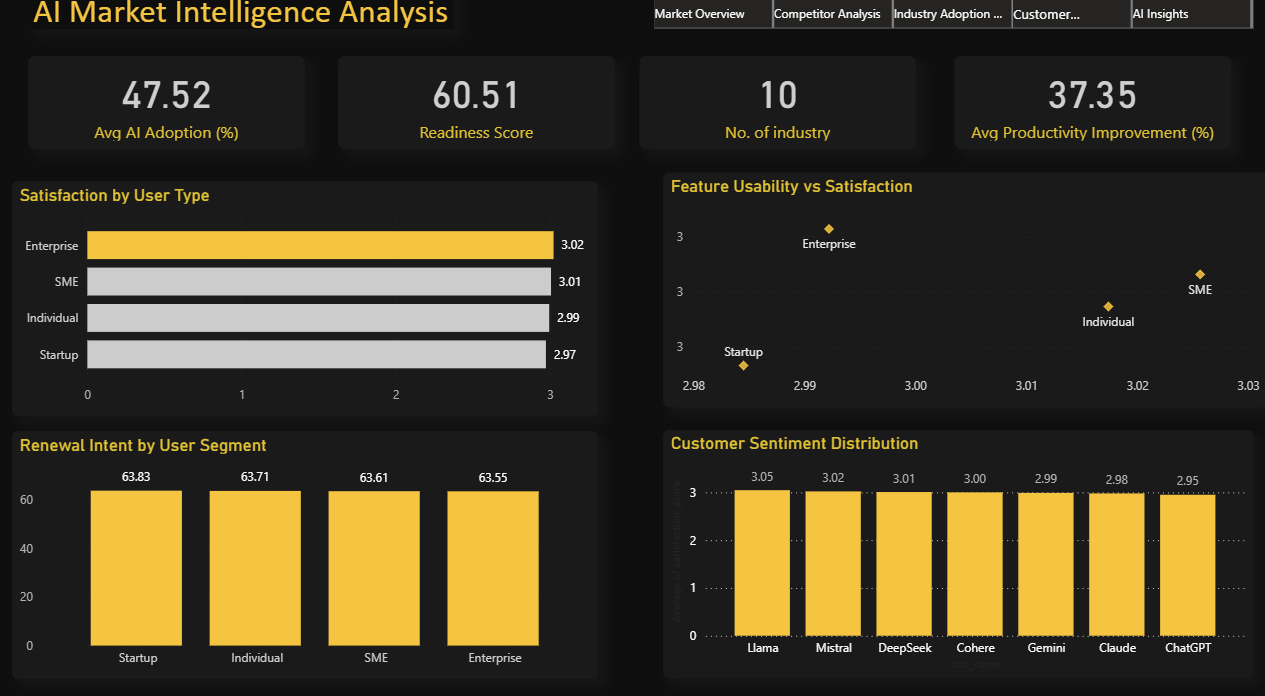

This screenshot's page, from the dashboard's own definition file:
{"tool":"powerbi","page":{"name":"Customer Segrementation & Behavior ","canvas":[1280,720],"ordinal":3},"visuals":[{"type":"textbox","title":"AI Market Intelligence Analysis","box":[31,0,423.2,38.1],"z":0},{"type":"pageNavigator","box":[654.3,8.7,595.9,29.9],"z":1},{"type":"card","fields":{"Values":["Avg(Adoption.ai_adoption_rate_percent)"]},"box":[31.1,65.9,274.9,92.1],"z":2},{"type":"card","fields":{"Values":["Avg(Adoption.avg_ai_spend_million_usd)"]},"box":[339.6,65.9,274.9,92.1],"z":3},{"type":"card","fields":{"Values":["Count(Adoption.industry)"]},"box":[639.4,65.9,274.9,92.1],"z":4},{"type":"card","fields":{"Values":["Avg(Adoption.productivity_improvement_percent)"]},"box":[952.9,65.9,274.9,92.1],"z":5},{"type":"barChart","title":"Satisfaction by User Type","fields":{"Category":["CustomerInsights.user_type"],"Y":["CustomerInsights.Avg Satisfaction"]},"box":[14.9,190.3,583.4,233.9],"z":6},{"type":"columnChart","title":"Renewal Intent by User Segment","fields":{"Category":["CustomerInsights.user_type"],"Y":["Avg(CustomerInsights.renewal_intent_percent)"]},"box":[14.9,439.1,583.4,246.3],"z":7},{"type":"scatterChart","title":"Feature Usability vs Satisfaction","fields":{"X":["Avg(CustomerInsights.feature_usability_score)"],"Y":["CustomerInsights.Avg Satisfaction"],"Category":["CustomerInsights.user_type"]},"box":[663,181.6,602.1,233.9],"z":8},{"type":"columnChart","title":" Customer Sentiment Distribution","fields":{"Category":["CustomerInsights.tool_name"],"Y":["Avg(CustomerInsights.satisfaction_score)"]},"box":[663,437.9,587.1,247.5],"z":9}]}

Visuals, with their boxes in screenshot pixels (x1, y1, x2, y2), scaled from the page's 1280x720 canvas onto the 1265x696 screenshot:
"AI Market Intelligence Analysis" textbox: <bbox>31, 0, 449, 37</bbox>
pageNavigator: <bbox>647, 8, 1236, 37</bbox>
card - Avg(Adoption.ai_adoption_rate_percent): <bbox>31, 64, 302, 153</bbox>
card - Avg(Adoption.avg_ai_spend_million_usd): <bbox>336, 64, 607, 153</bbox>
card - Count(Adoption.industry): <bbox>632, 64, 904, 153</bbox>
card - Avg(Adoption.productivity_improvement_percent): <bbox>942, 64, 1213, 153</bbox>
"Satisfaction by User Type" barChart: <bbox>15, 184, 591, 410</bbox>
"Renewal Intent by User Segment" columnChart: <bbox>15, 424, 591, 663</bbox>
"Feature Usability vs Satisfaction" scatterChart: <bbox>655, 176, 1250, 402</bbox>
" Customer Sentiment Distribution" columnChart: <bbox>655, 423, 1235, 663</bbox>
